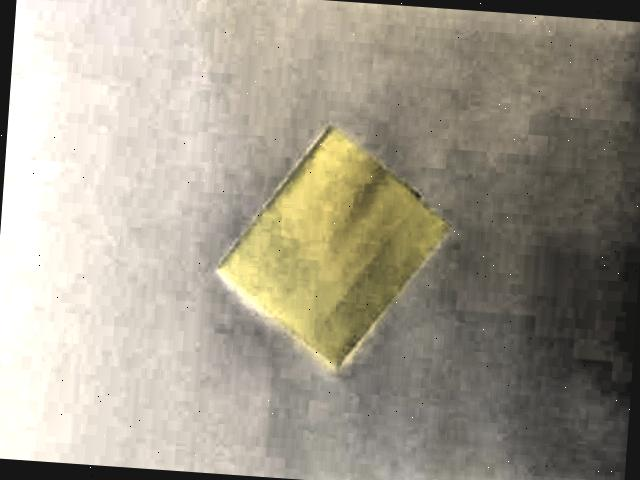Paper: (191, 100, 469, 386)
